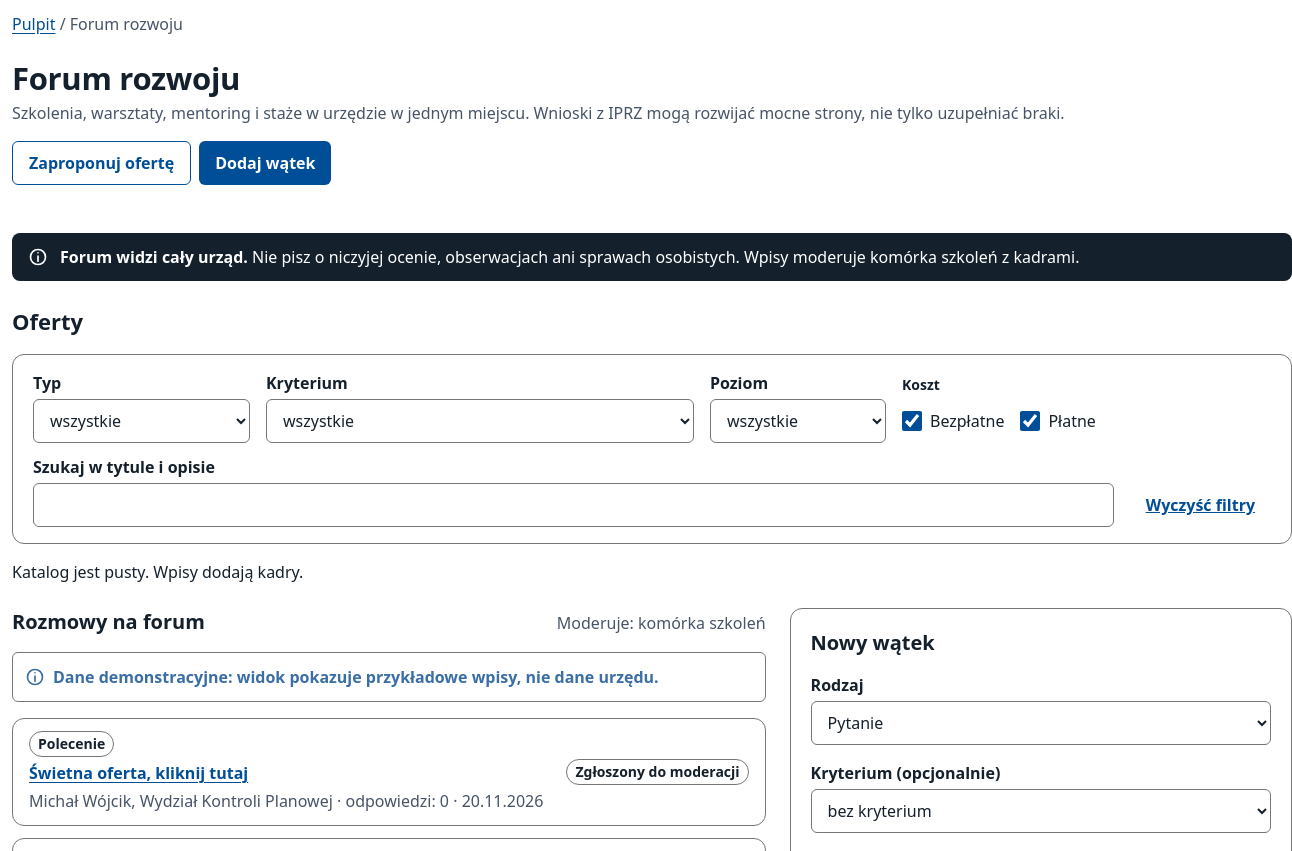
Scenario: GrowthPage catalog › explains an empty result of a filter and offers to clear it
The image size is (1292, 851).
Click the checkbox labelled "Płatne" at (1030,421), box [1020,411,1040,431]
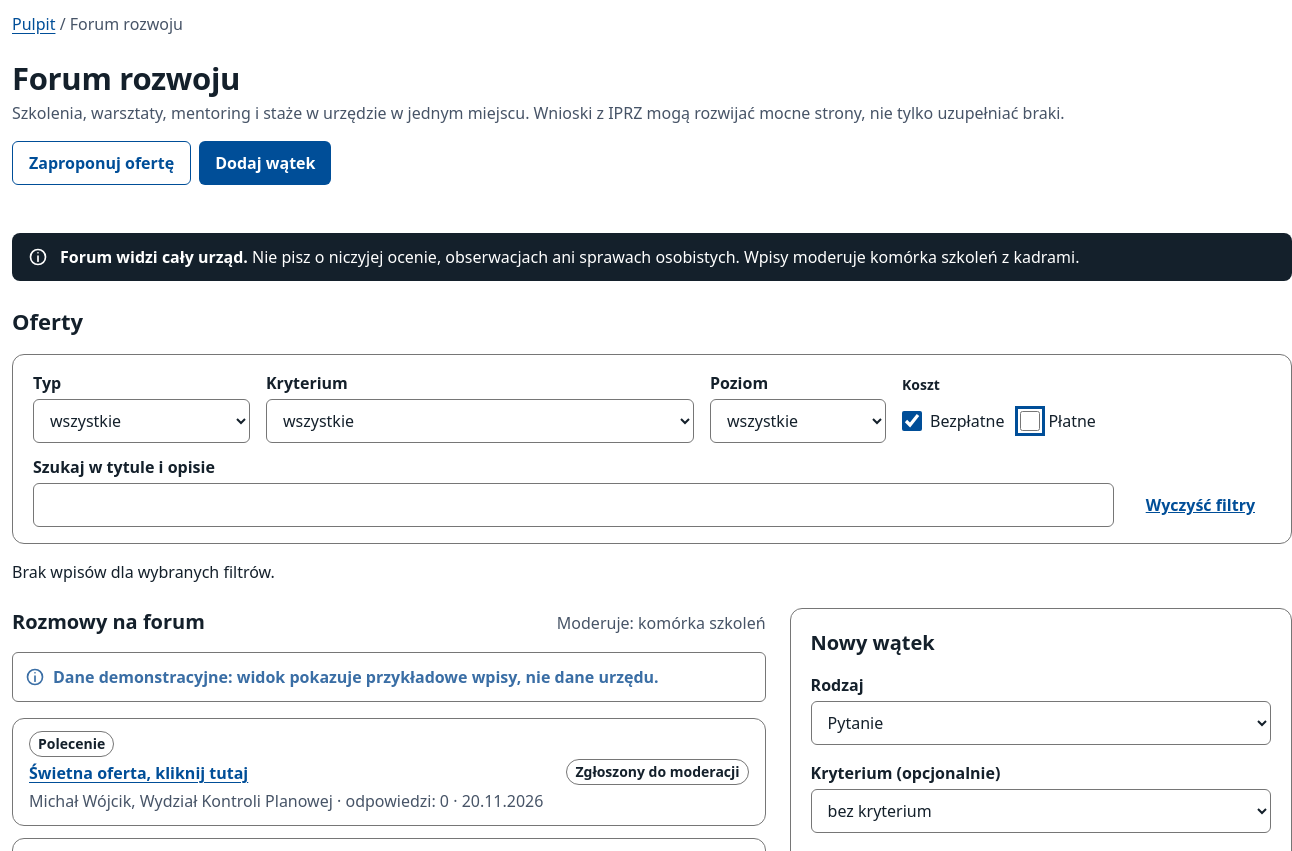
Expected: the button "Wyczyść filtry" is shown, [1130,483,1271,527]
Result: the message reads "Brak wpisów dla wybranych filtrów." at [12,561,275,583]
